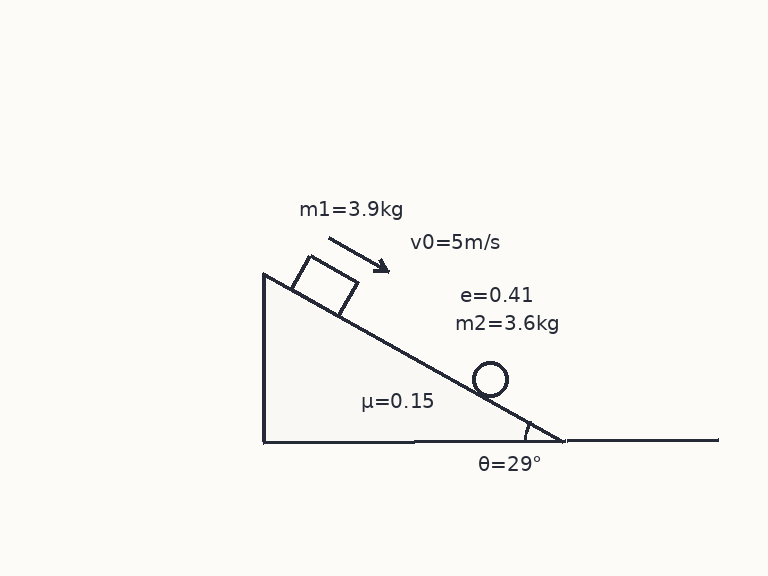ball: (470, 359, 510, 399)
block: (289, 253, 359, 317)
ramp: (261, 272, 567, 443)
